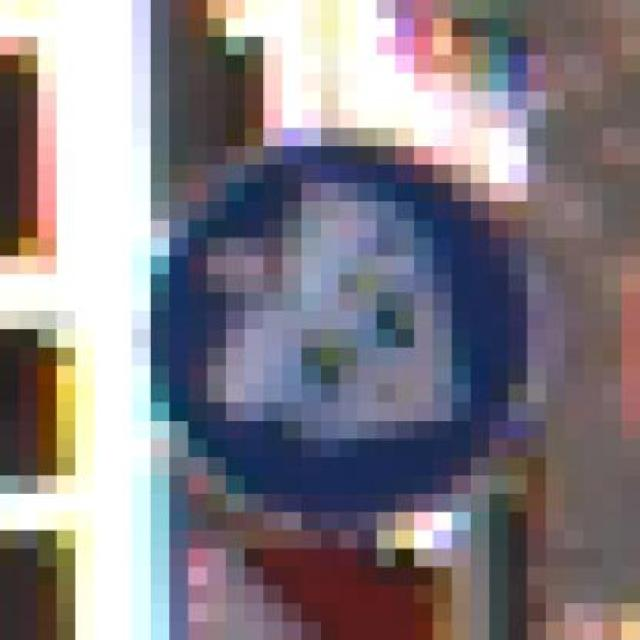Keep-Right: (112, 128, 546, 512)
